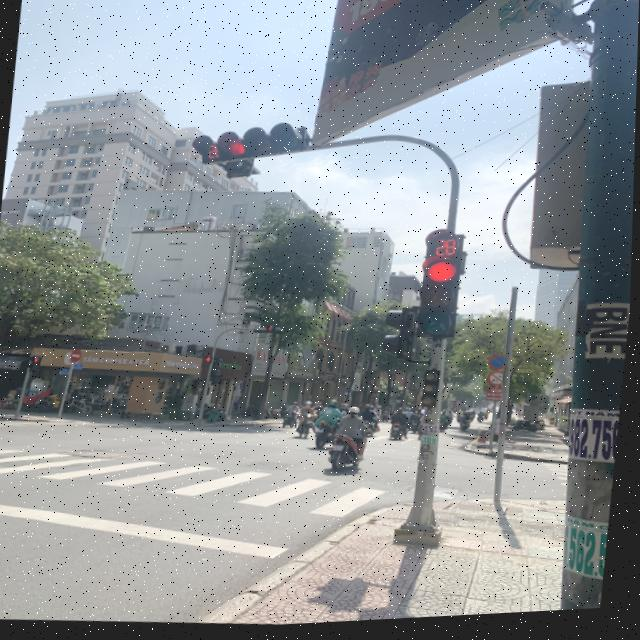Red: (207, 120, 319, 171), (413, 260, 467, 345)
